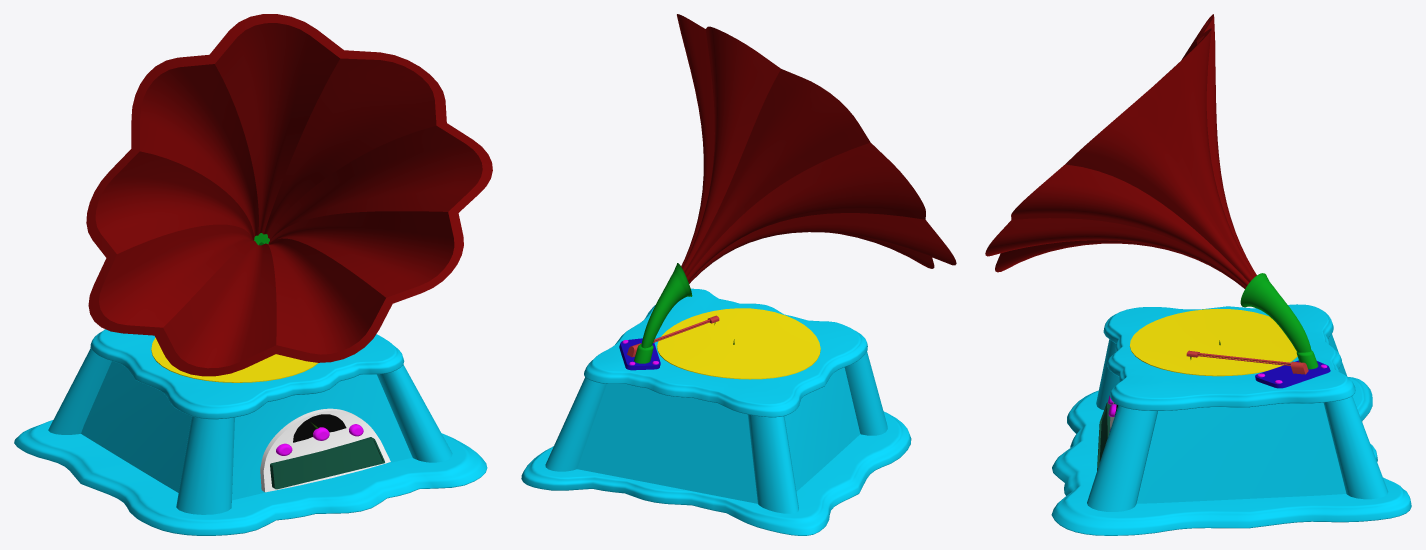
File: GRAMOPHONE.fbx
3 views of the same model, side by side, from view 1: azimuth 30°, elevation 25°; view 2: azimuth 150°, elevation 25°; view 3: azimuth 270°, elevation 25° (orthographic). The views are drawn at different scales.
Visible parts, largest first — view 1: Gramophone010; view 2: Gramophone010; view 3: Gramophone010.
Part boxes in pixels (bbox=[...]): Gramophone010: bbox=[14, 14, 492, 535]; Gramophone010: bbox=[521, 14, 956, 535]; Gramophone010: bbox=[985, 14, 1411, 535].
Size of the model in its own units: 1.03 by 1.18 by 1.07.
